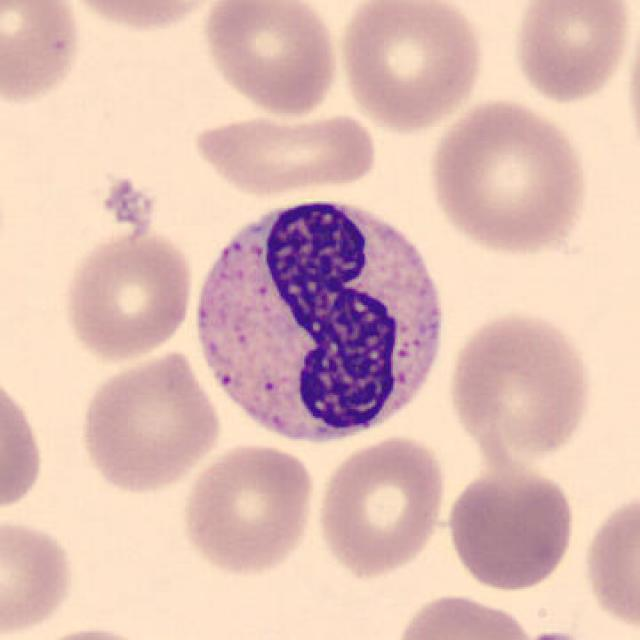Neutrophil: (187, 185, 455, 455)
Platelets: (99, 168, 166, 234)
RBC: (423, 95, 592, 258), (443, 306, 597, 464), (75, 348, 224, 496), (334, 0, 489, 134), (313, 432, 450, 580), (176, 439, 318, 578), (59, 227, 197, 365), (187, 106, 380, 199), (442, 464, 578, 592), (197, 0, 343, 118), (506, 0, 634, 108), (0, 515, 80, 638), (0, 0, 85, 111), (578, 485, 640, 635), (389, 589, 535, 640), (0, 367, 48, 520), (58, 0, 234, 35), (16, 622, 165, 640)
